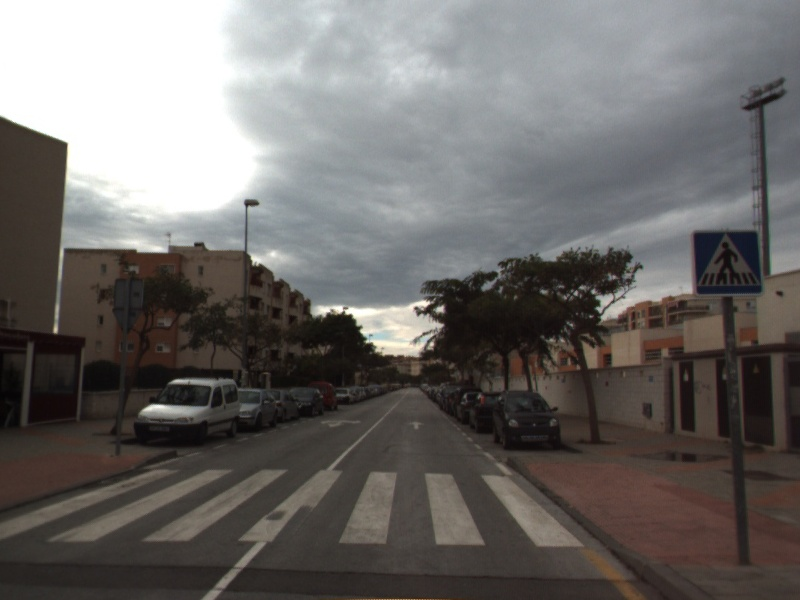STRAIGHT: (406, 419, 426, 431)
